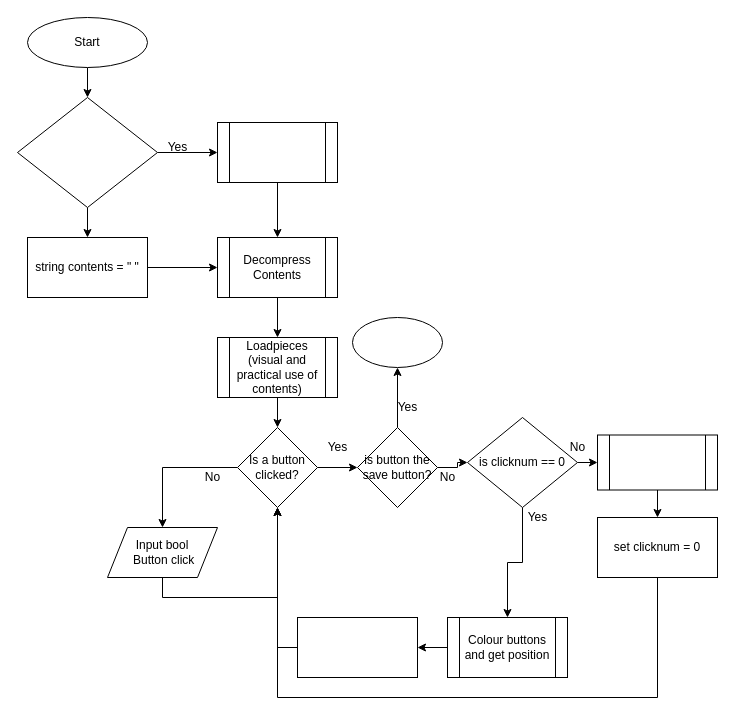
The diagram is 735 pixels wide and 723 high, and some of its shapes have lost their labels. Each missing label, with the centre of its shape:
"Do you want to load a pre-existing game?" goes at (87,152).
"End" goes at (397,342).
"Move piece" goes at (657,462).
"Save file search" goes at (277,152).
"Set clicknum = 1" goes at (357,647).
